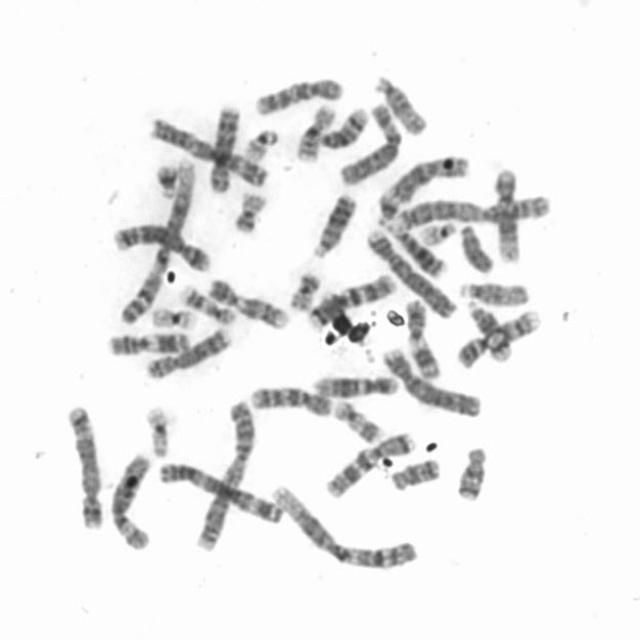A1: (117, 156, 196, 327), (270, 485, 420, 571)
A2: (191, 398, 257, 556), (395, 194, 550, 231)
A3: (147, 114, 269, 188), (156, 458, 284, 528)
B4: (365, 227, 458, 321), (381, 346, 482, 419)
B5: (64, 404, 105, 530), (111, 223, 212, 273)
C10: (252, 76, 346, 117), (248, 385, 334, 419)
C11: (405, 296, 443, 378), (104, 330, 192, 360)
C12: (492, 166, 523, 264), (310, 373, 400, 399)
C6: (336, 100, 402, 188), (110, 452, 154, 554)
C7: (324, 432, 419, 499), (306, 274, 396, 332)
C8: (143, 326, 236, 380), (206, 105, 242, 196)
C9: (456, 307, 541, 369), (206, 278, 292, 332)
D13: (385, 223, 447, 278), (311, 190, 359, 260)
D14: (465, 300, 513, 364), (318, 104, 369, 151)
D15: (371, 75, 430, 138), (459, 280, 532, 308)
E16: (294, 102, 338, 163)
E17: (332, 397, 384, 446), (177, 286, 238, 326)
E18: (453, 443, 491, 503), (390, 459, 442, 493)
F19: (144, 406, 172, 460), (150, 306, 198, 334)
F20: (231, 188, 272, 234), (287, 271, 323, 313)
G21: (152, 165, 183, 199), (375, 190, 402, 228)
G22: (243, 128, 279, 164), (416, 219, 458, 249)
X: (390, 154, 469, 204)
Y: (457, 223, 495, 275)
